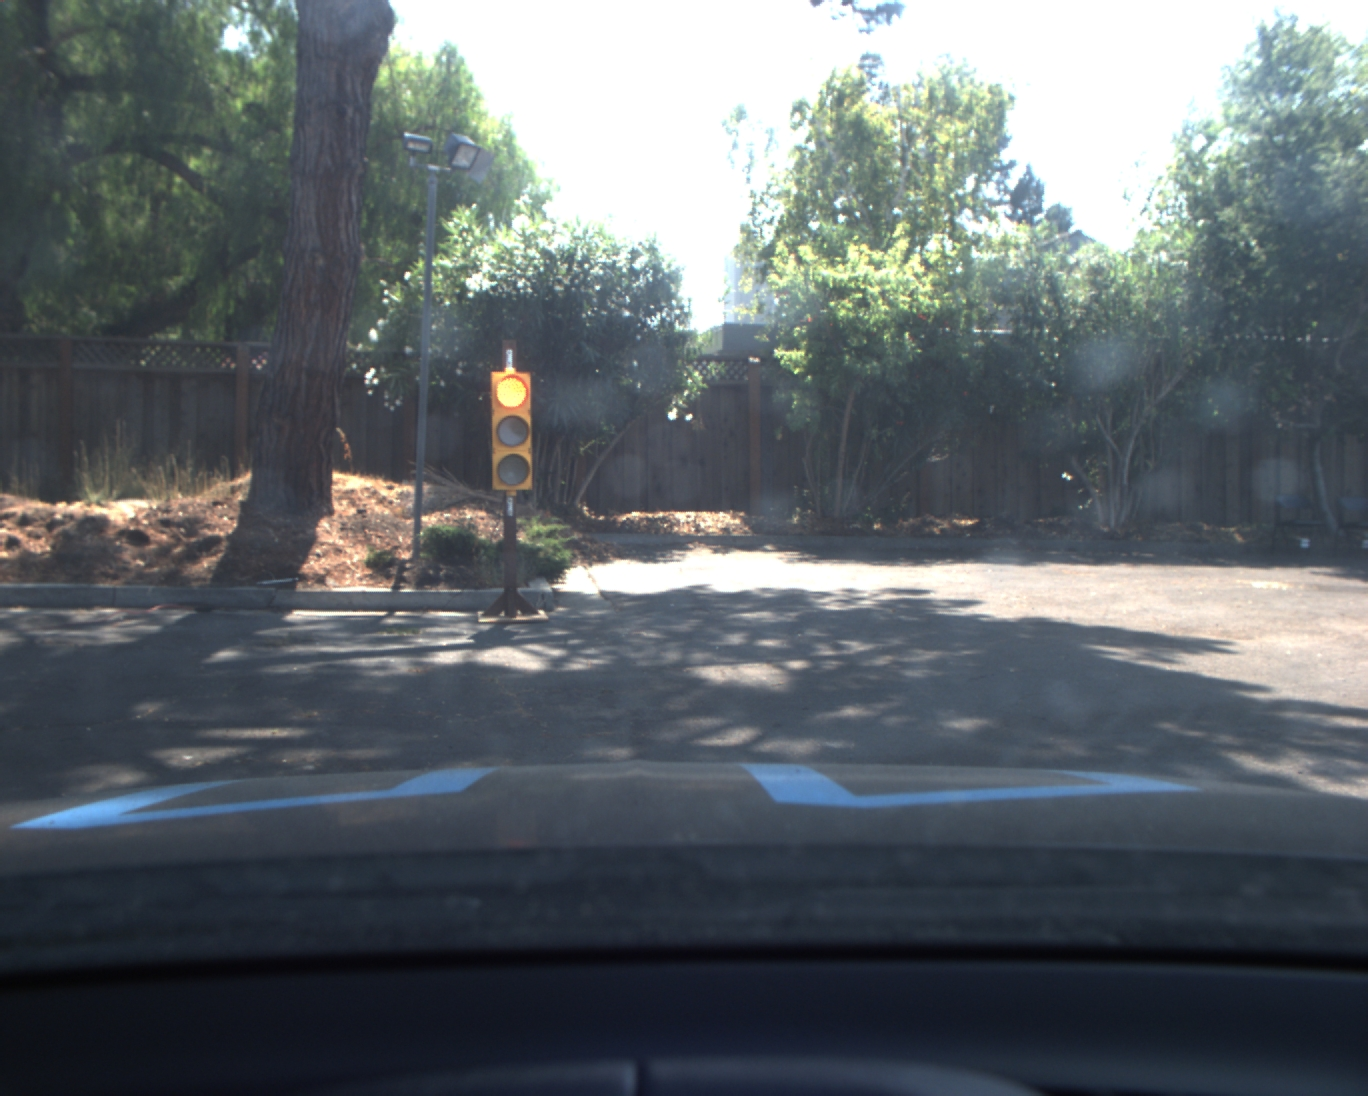red: (487, 367, 540, 491)
